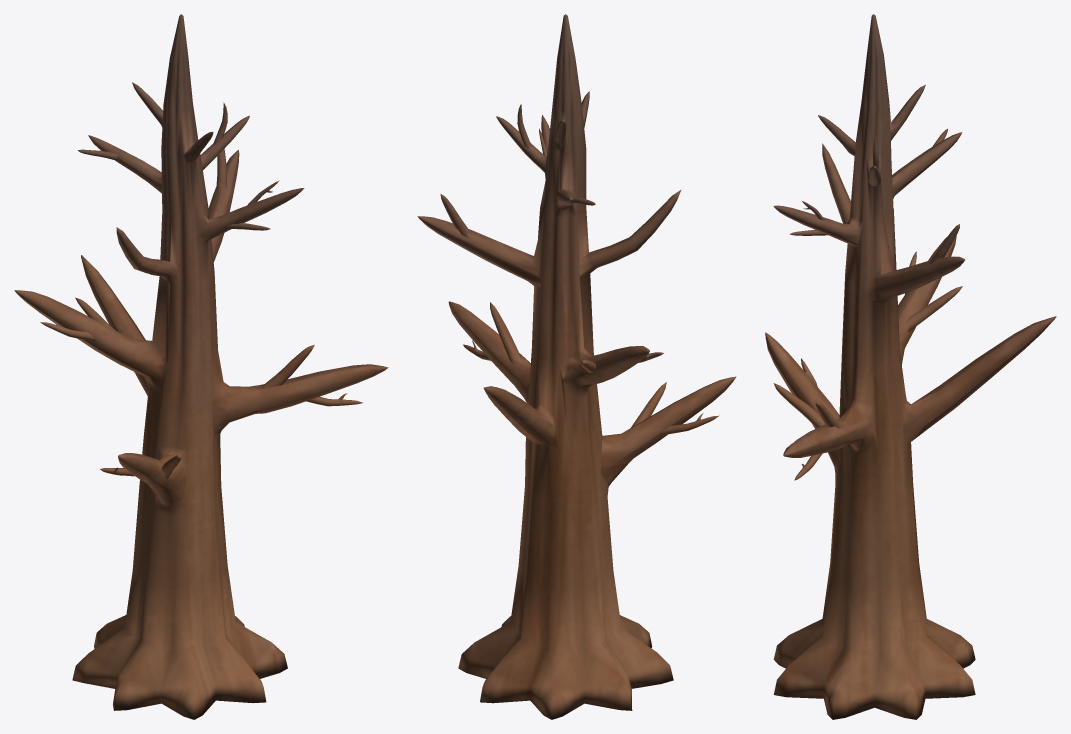
The model's file is sb_obj_nature011_DeformedTree02b.fbx.
The picture shows the model from 3 angles, left to right: view 1: azimuth 30°, elevation 25°; view 2: azimuth 150°, elevation 25°; view 3: azimuth 270°, elevation 25°; orthographic projection.
Parts seen in each view (by area): view 1: sb_obj_nature011_DeformedTree02b.007; view 2: sb_obj_nature011_DeformedTree02b.007; view 3: sb_obj_nature011_DeformedTree02b.007.
Boxes of the visible parts, box(x1,y1,x2,y2) form: sb_obj_nature011_DeformedTree02b.007: box(14, 14, 388, 719); sb_obj_nature011_DeformedTree02b.007: box(417, 14, 736, 719); sb_obj_nature011_DeformedTree02b.007: box(765, 14, 1056, 719).
Bounding box in the file's own units: 1.3 × 2.85 × 1.14.
